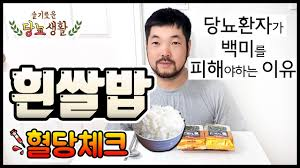ssalbab: (141, 104, 185, 141)
